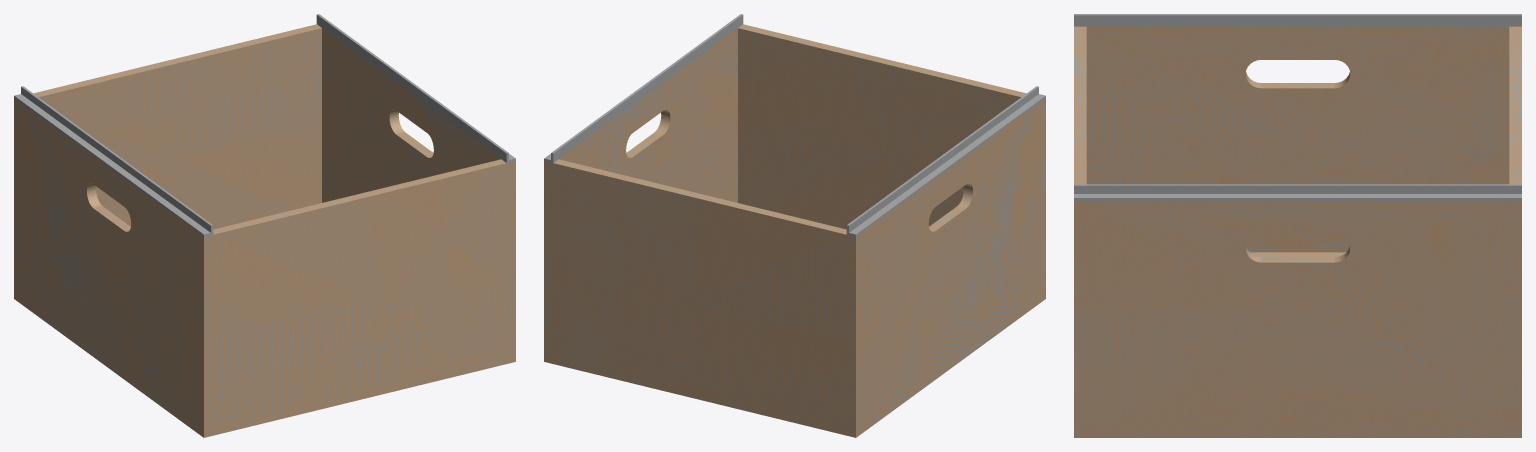
The model's file is Filebox.dae.
The picture shows the model from 3 angles, left to right: view 1: azimuth 30°, elevation 25°; view 2: azimuth 150°, elevation 25°; view 3: azimuth 270°, elevation 25°; orthographic projection. The views are drawn at different scales.
Visible parts, largest first — view 1: Side2 (×2), Side1 (×4), Rail (×2), Base; view 2: Side2 (×2), Side1 (×4), Rail (×2), Base; view 3: Side1 (×4), Rail (×2), Base, Side2 (×2).
Boxes of the visible parts, x1=… form: Side2 (×2): x1=33, y1=24, x2=506, y2=425; Side1 (×4): x1=14, y1=28, x2=515, y2=428; Rail (×2): x1=14, y1=14, x2=515, y2=236; Base: x1=14, y1=289, x2=515, y2=437; Side2 (×2): x1=553, y1=24, x2=1026, y2=425; Side1 (×4): x1=544, y1=28, x2=1045, y2=428; Rail (×2): x1=544, y1=14, x2=1045, y2=236; Base: x1=544, y1=289, x2=1045, y2=437; Side1 (×4): x1=1074, y1=26, x2=1521, y2=426; Rail (×2): x1=1074, y1=14, x2=1521, y2=200; Base: x1=1074, y1=252, x2=1521, y2=437; Side2 (×2): x1=1074, y1=26, x2=1521, y2=184.
Bounding box in the file's own units: 15.98 × 16.85 × 10.31.
